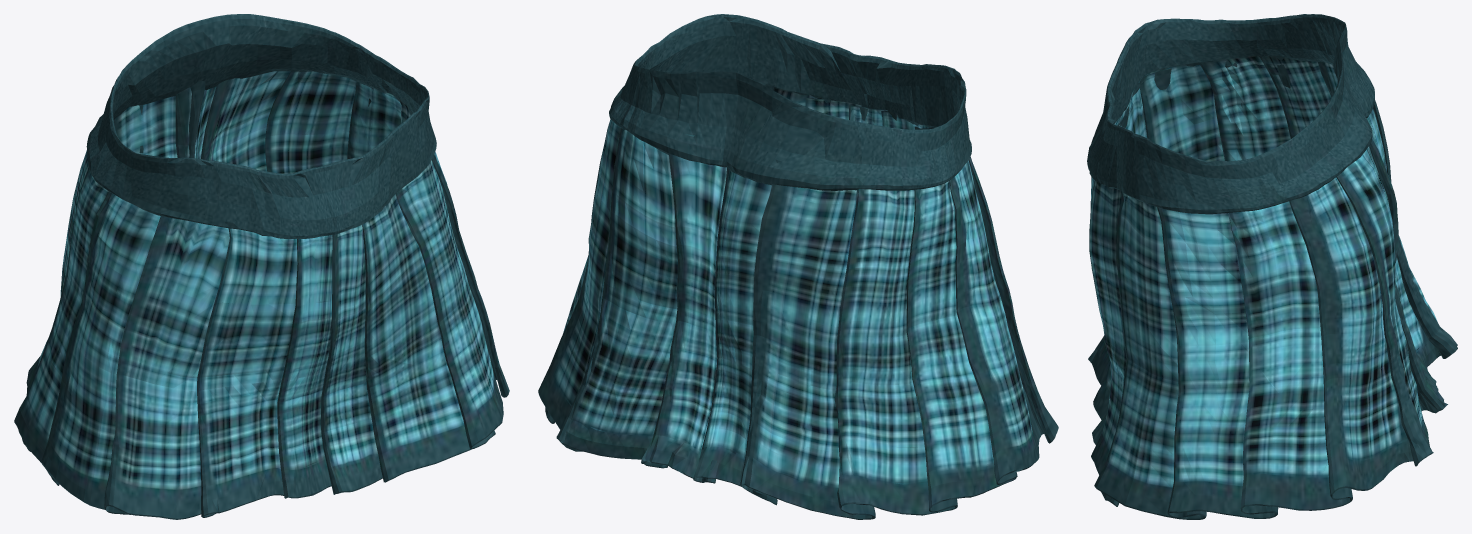
File: mhw_elvs_pleated_plaid_mini_skirt.glb
3 renders of one model, left to right at view 1: azimuth 30°, elevation 25°; view 2: azimuth 150°, elevation 25°; view 3: azimuth 270°, elevation 25°, orthographic. The views are drawn at different scales.
Parts seen in each view (by area): view 1: mhw_elvs_pleated_plaid_mini_skirt; view 2: mhw_elvs_pleated_plaid_mini_skirt; view 3: mhw_elvs_pleated_plaid_mini_skirt.
Part boxes in pixels (left/top/right/bottom): mhw_elvs_pleated_plaid_mini_skirt: left=14, top=14, right=509, bottom=519; mhw_elvs_pleated_plaid_mini_skirt: left=538, top=14, right=1058, bottom=519; mhw_elvs_pleated_plaid_mini_skirt: left=1087, top=14, right=1457, bottom=519.
Size of the model in its own units: 0.4582 by 0.3993 by 0.3352.
Materials: 1 (1 with a texture image).
